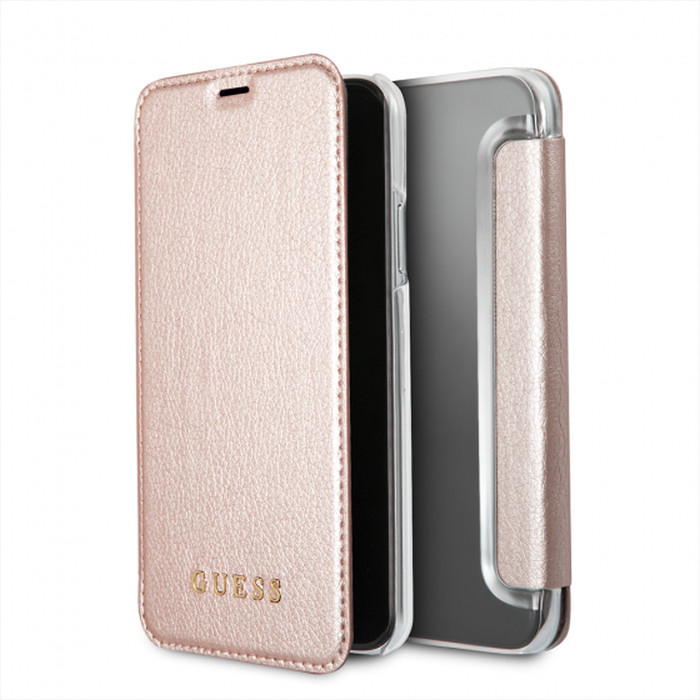Guess: (176, 555, 292, 612)
